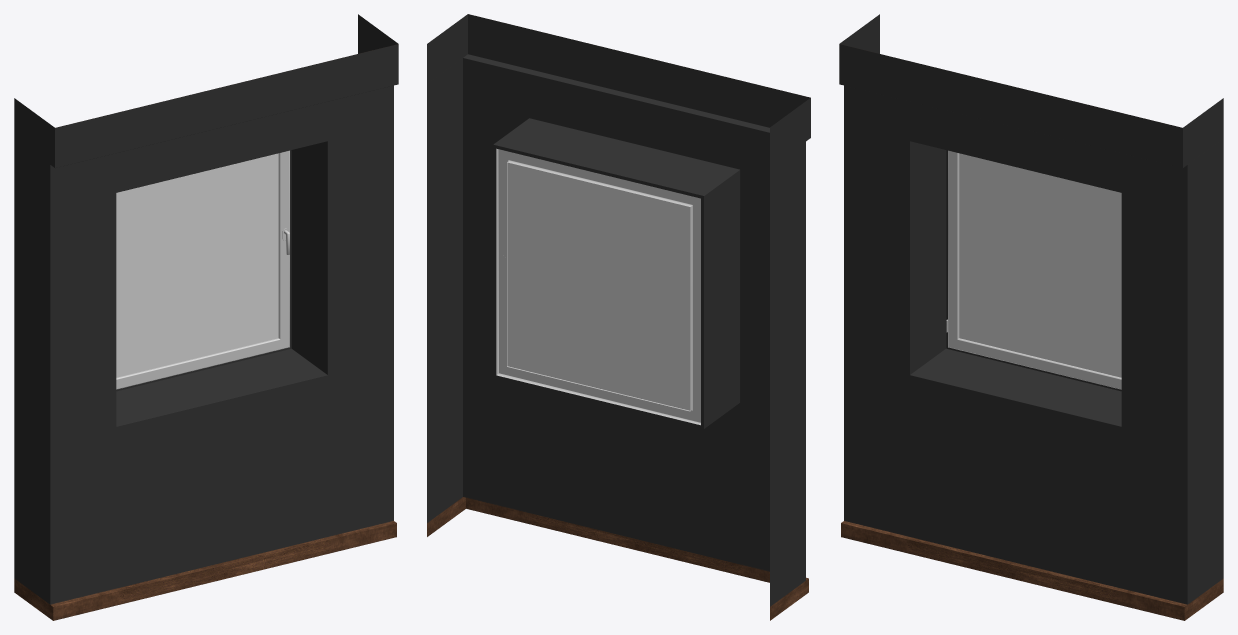
File: Walls_window.fbx
The picture shows the model from 3 angles, left to right: view 1: azimuth 30°, elevation 25°; view 2: azimuth 150°, elevation 25°; view 3: azimuth 330°, elevation 25°; orthographic projection.
Parts seen in each view (by area): view 1: Wall_window, Windowframe; view 2: Wall_window, Windowframe; view 3: Wall_window, Windowframe.
Part boxes in pixels (bbox=[...]): Wall_window: bbox=[14, 14, 398, 620]; Windowframe: bbox=[116, 150, 289, 389]; Wall_window: bbox=[427, 14, 810, 620]; Windowframe: bbox=[496, 148, 700, 425]; Wall_window: bbox=[839, 14, 1223, 620]; Windowframe: bbox=[946, 150, 1121, 389].
Bounding box in the file's own units: 200 × 275 × 41.3.
